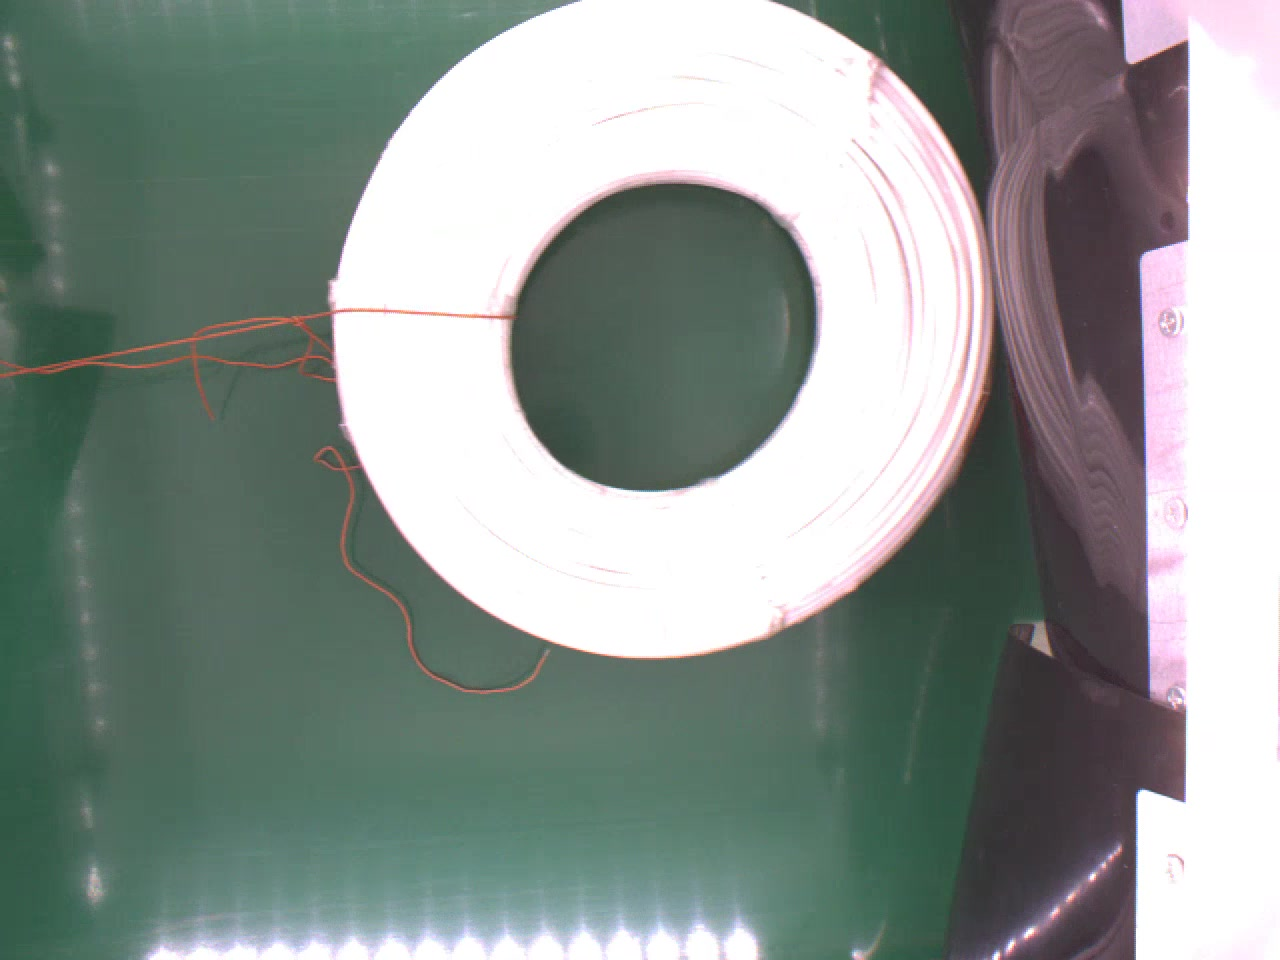white: (322, 0, 1001, 665)
